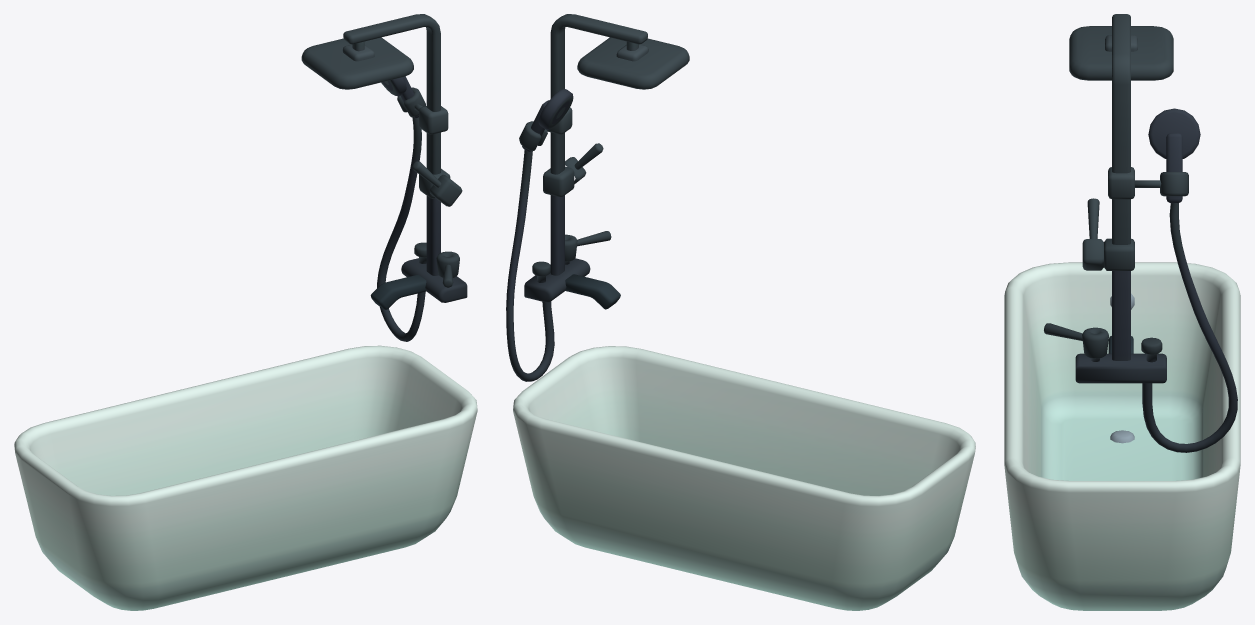
The model's file is Bath_03.glb.
3 renders of one model, left to right at view 1: azimuth 30°, elevation 25°; view 2: azimuth 150°, elevation 25°; view 3: azimuth 270°, elevation 25°, orthographic. The views are drawn at different scales.
Visible parts, largest first — view 1: Bath_03; view 2: Bath_03; view 3: Bath_03.
Boxes of the visible parts, x1,y1,x2,y2 form: Bath_03: (14,14,477,610); Bath_03: (506,14,975,610); Bath_03: (1004,14,1240,610).
Size of the model in its own units: 1.79 by 2.14 by 0.7947.
Materials: 1 (1 with a texture image).
